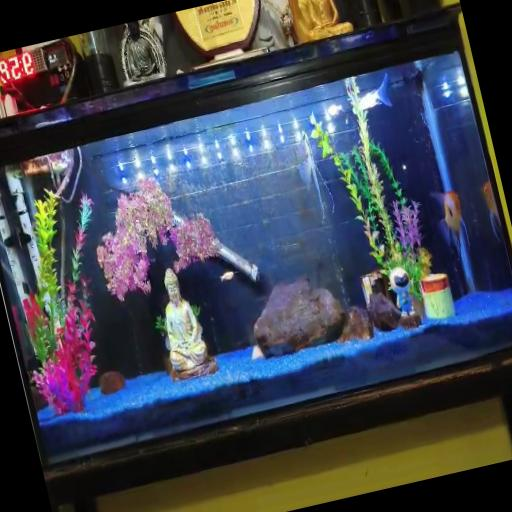Fish: (297, 130, 334, 222), (432, 191, 469, 259), (358, 74, 391, 110), (481, 181, 500, 241), (327, 105, 341, 117), (220, 272, 234, 282)
